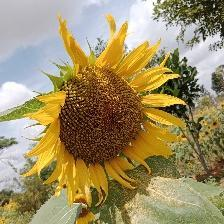sunflower: (24, 12, 188, 208)
